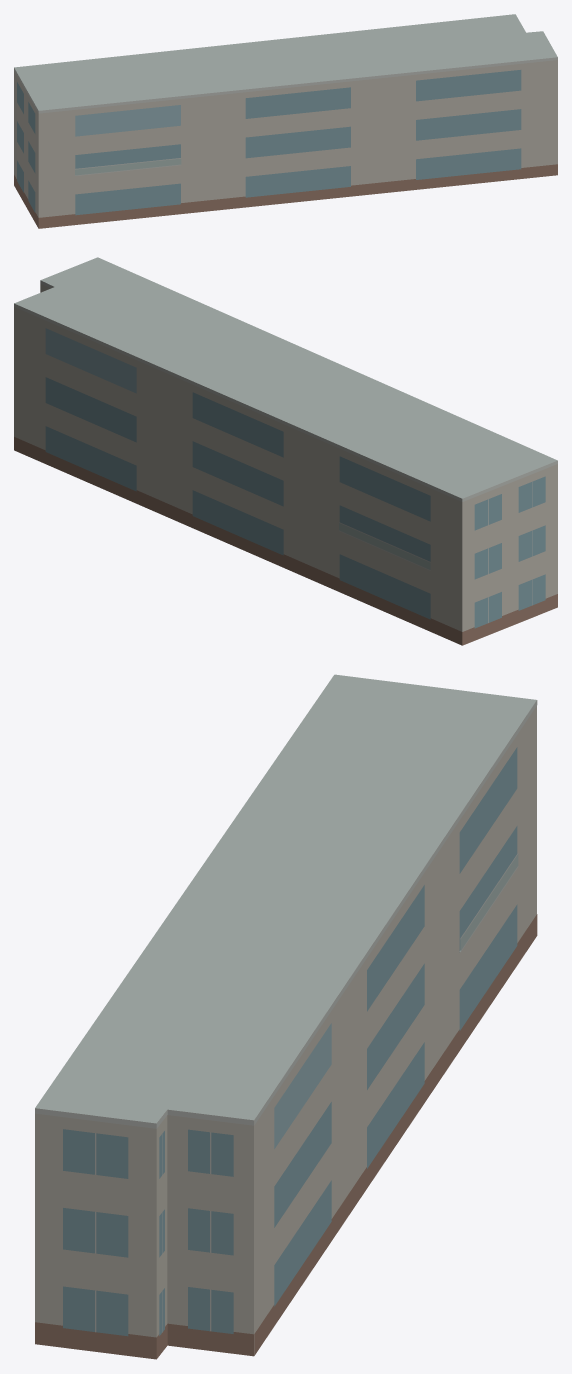
Rendered from survey-upis-32876195.glb.
3 renders of one model, top to bottom at view 1: azimuth 30°, elevation 25°; view 2: azimuth 150°, elevation 25°; view 3: azimuth 270°, elevation 25°, orthographic. The views are drawn at different scales.
Parts seen in each view (by area): view 1: survey-upis-32876195.tmp; view 2: survey-upis-32876195.tmp; view 3: survey-upis-32876195.tmp.
Part boxes in pixels (x1,y1,x2,y2): survey-upis-32876195.tmp: [14, 14, 557, 228]; survey-upis-32876195.tmp: [14, 257, 557, 645]; survey-upis-32876195.tmp: [35, 674, 537, 1359].
Size of the model in its own units: 43.27 by 10.6 by 20.46.
